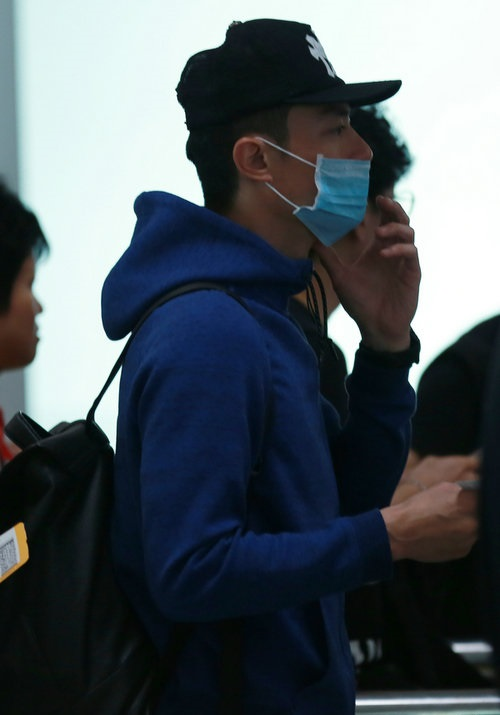face: (1, 248, 42, 362)
face_mask: (279, 107, 374, 248)
